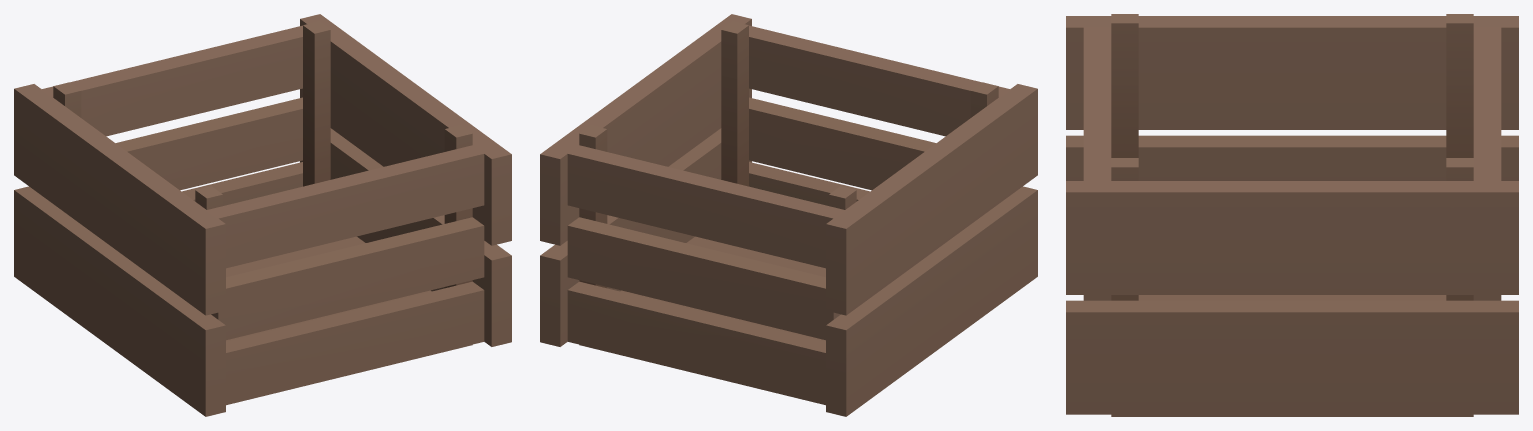
3 views of the same model, side by side, from view 1: azimuth 30°, elevation 25°; view 2: azimuth 150°, elevation 25°; view 3: azimuth 270°, elevation 25° (orthographic). The views are drawn at different scales.
Parts seen in each view (by area): view 1: Box.001; view 2: Box.001; view 3: Box.001.
Part boxes in pixels (left/top/right/bottom): Box.001: left=14, top=14, right=511, bottom=416; Box.001: left=540, top=14, right=1037, bottom=416; Box.001: left=1066, top=14, right=1518, bottom=416.
Size of the model in its own units: 0.5862 by 0.387 by 0.6357.
Materials: 1 (1 with a texture image).
